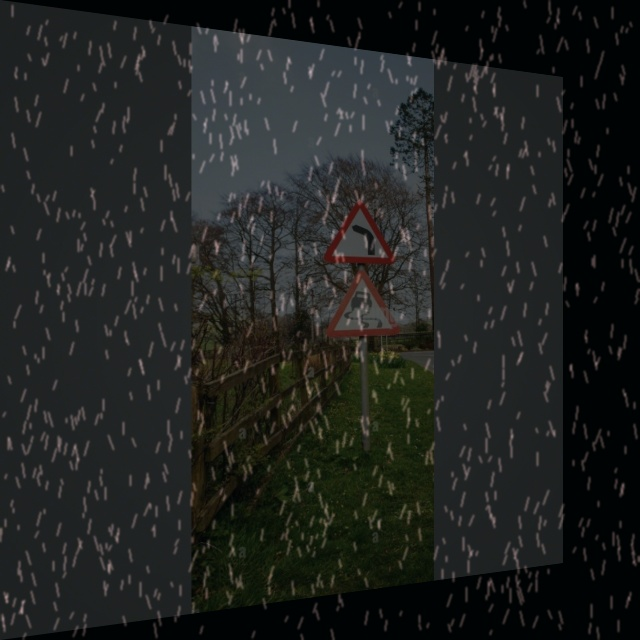Slippery_Road: (327, 268, 398, 340)
